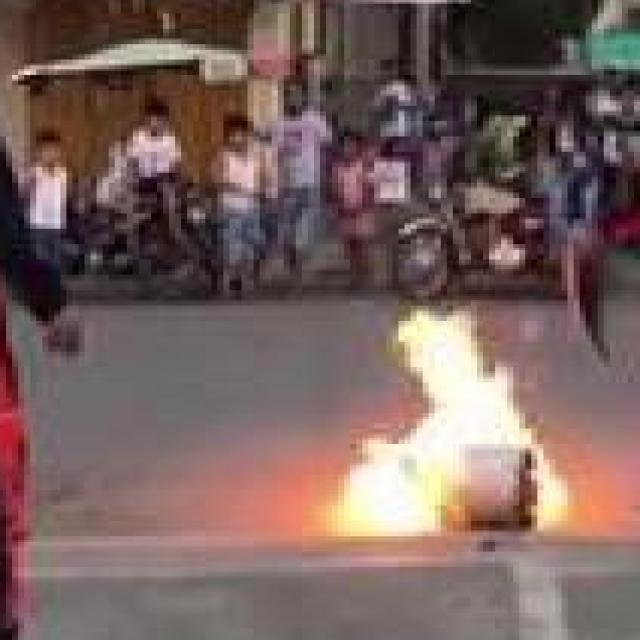Fire: (334, 310, 571, 535)
